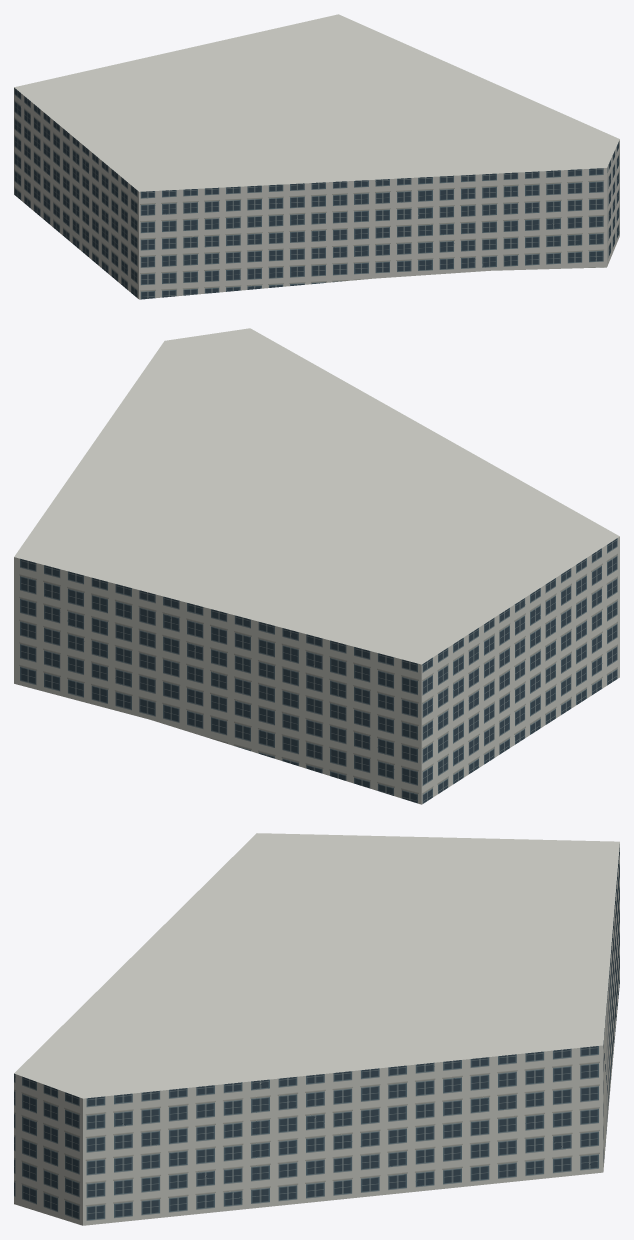
Rendered from city_-2_-6.glb.
The picture shows the model from 3 angles, top to bottom: view 1: azimuth 30°, elevation 25°; view 2: azimuth 150°, elevation 25°; view 3: azimuth 270°, elevation 25°; orthographic projection. The views are drawn at different scales.
Size of the model in its own units: 80.14 by 19.92 by 77.3.
1 material, 1 textured.
